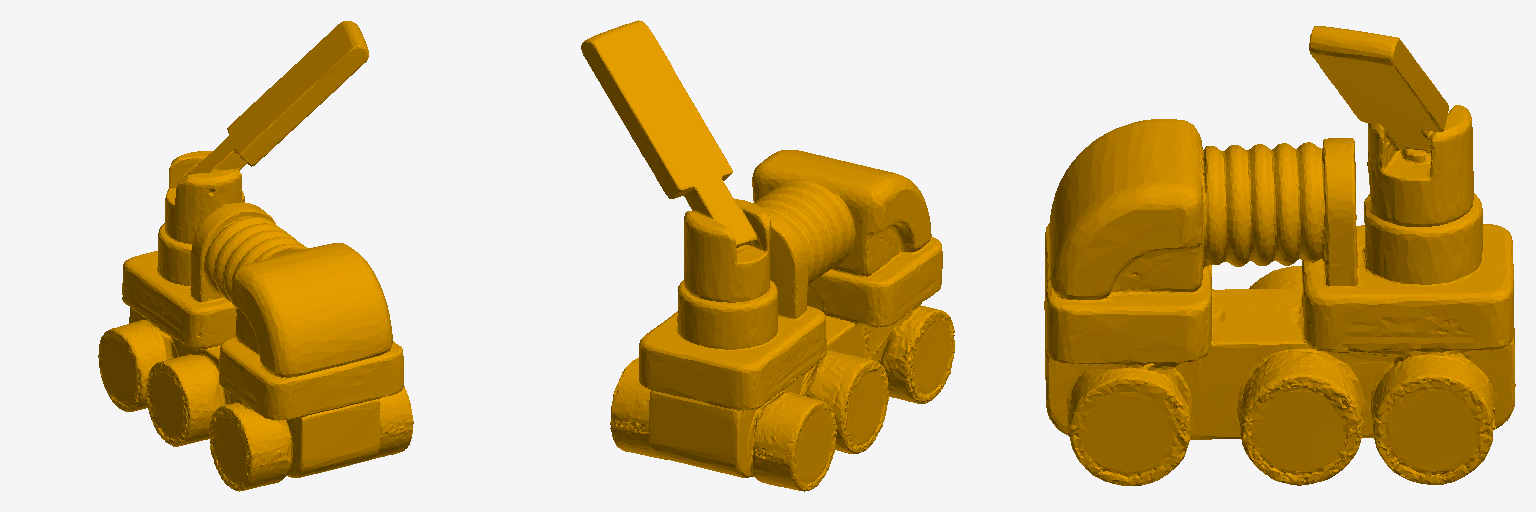
URDF robot description (14yy2ntz):
<?xml version='1.0'?>

<robot name="14yy2ntz">
    <static>false</static>
    <link name="link">
        <inertial>
            <mass value="0.11845294288652713"/>
            <inertia ixx="0.0001842599173945698" ixy="-1.568931200441896e-06" ixz="-8.130302191051659e-06"
                     iyy="9.160306579558248e-05" iyz="-1.1180998586546498e-06" izz="0.00014779753679241832"/>
        </inertial>
        <collision name="collision">
            <geometry>
                <mesh filename="package://miscnet/train/14yy2ntz/collision_model_vhacd.obj"/>
            </geometry>
        </collision>
        <visual name="visual">
            <geometry>
                <mesh filename="package://miscnet/train/14yy2ntz/visual_model.obj"/>
            </geometry>
        </visual>
    </link>
</robot>

--- What the picture shows (computed from the rendered views, not written in the file) ---
The picture shows the robot from 3 angles, left to right: view 1: azimuth 30°, elevation 25°; view 2: azimuth 150°, elevation 25°; view 3: azimuth 270°, elevation 25°; orthographic projection.
Robot: 14yy2ntz — 1 links, 0 joints (none); root link link; default pose: every joint at zero.
Links seen in each view (by area): view 1: link; view 2: link; view 3: link.
Link boxes in pixels (bbox=[...]): link: bbox=[98, 21, 413, 491]; link: bbox=[581, 20, 954, 491]; link: bbox=[1044, 26, 1515, 485].
Size in the robot's own frame: 0.087 by 0.1124 by 0.1277 metres.
Meshes: 1 distinct files referenced, 1 mesh visuals loaded (1 OBJ).
